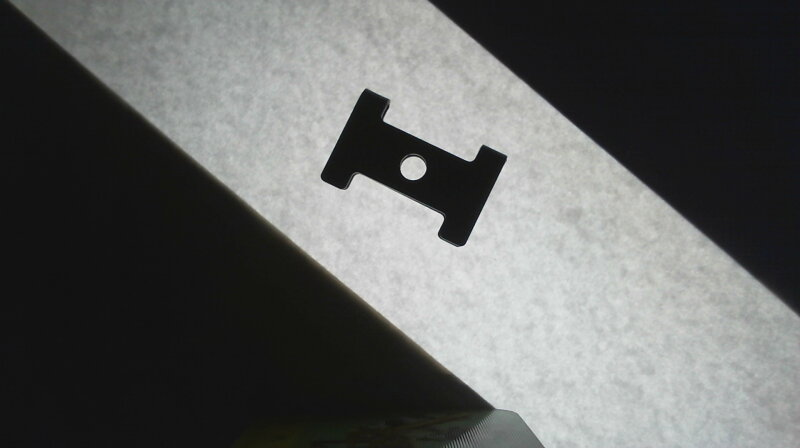O002: (315, 86, 510, 249)
